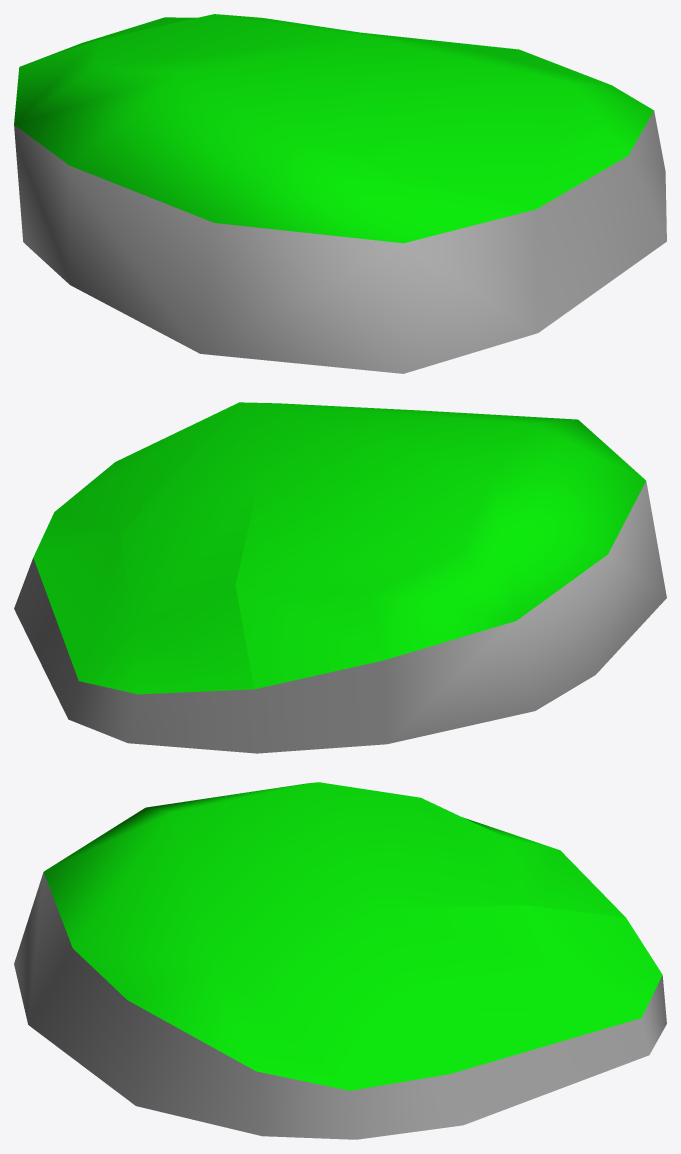
The model's file is rock_gen_round_mini_J.fbx.
3 renders of one model, top to bottom at view 1: azimuth 30°, elevation 25°; view 2: azimuth 150°, elevation 25°; view 3: azimuth 270°, elevation 25°, orthographic. The views are drawn at different scales.
Visible parts, largest first — view 1: rock_gen_round_mini_J; view 2: rock_gen_round_mini_J; view 3: rock_gen_round_mini_J.
Part boxes in pixels (x1=…): rock_gen_round_mini_J: x1=14, y1=14, x2=666, y2=373; rock_gen_round_mini_J: x1=14, y1=402, x2=666, y2=753; rock_gen_round_mini_J: x1=14, y1=782, x2=666, y2=1139.
Bounding box in the file's own units: 6.75 × 2.06 × 7.56.
